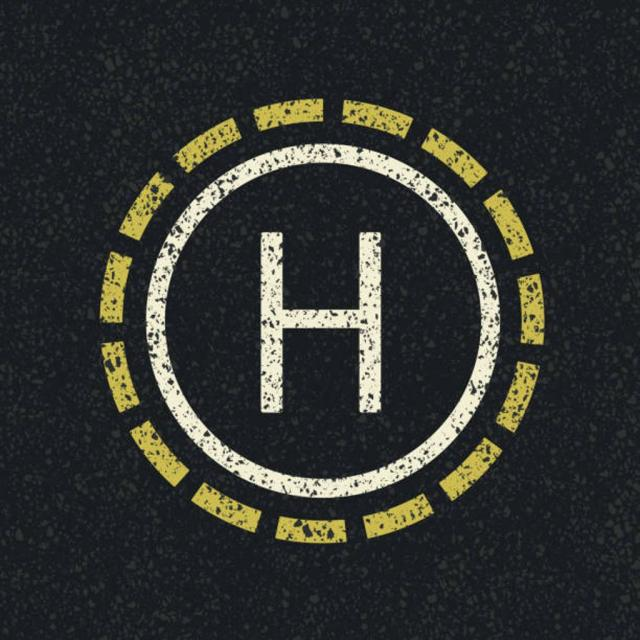helipad: (144, 142, 503, 499)
